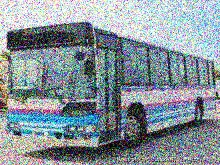bus: (8, 24, 214, 151)
